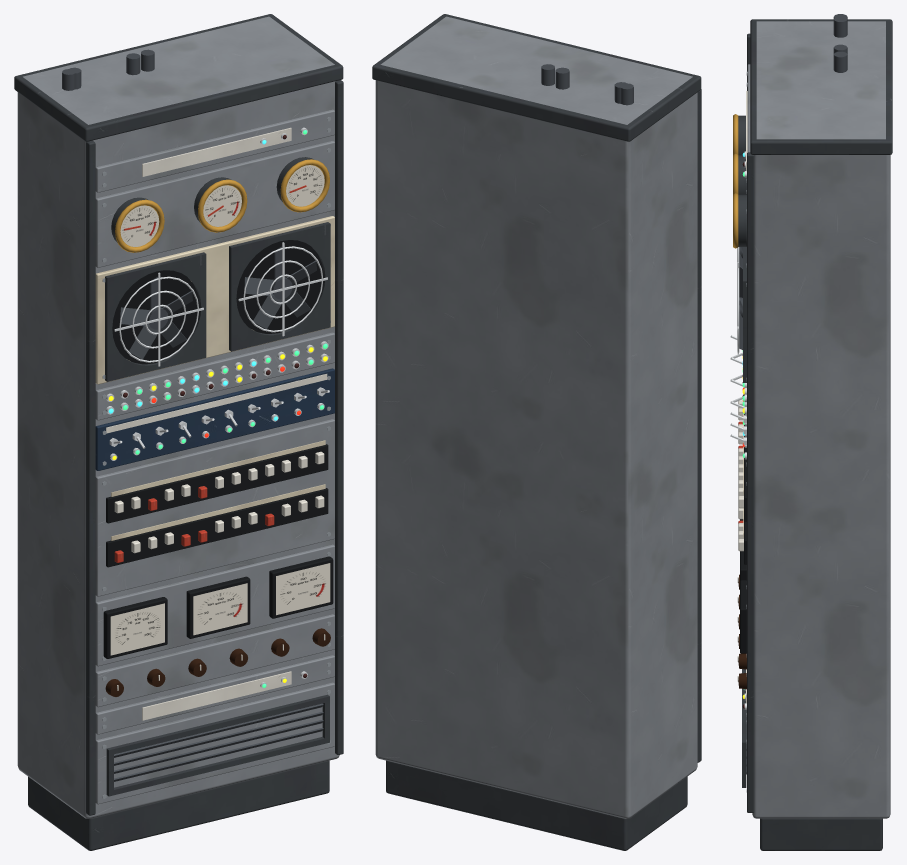
Rendered from Rack_75_1.glb.
3 views of the same model, side by side, from view 1: azimuth 30°, elevation 25°; view 2: azimuth 150°, elevation 25°; view 3: azimuth 270°, elevation 25° (orthographic). The views are drawn at different scales.
Visible parts, largest first — view 1: Rack_75_1_Body; view 2: Rack_75_1_Body; view 3: Rack_75_1_Body.
Boxes of the visible parts, x1,y1,x2,y2 form: Rack_75_1_Body: (14,14,343,850); Rack_75_1_Body: (372,14,701,850); Rack_75_1_Body: (730,14,892,850).
Size of the model in its own units: 0.76 by 2.1 by 0.4216.
Materials: 19 (8 with a texture image).
